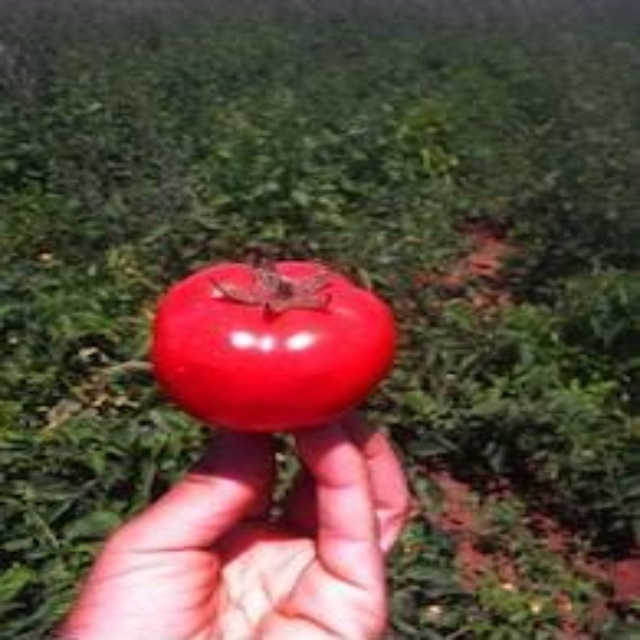tomato: (160, 263, 391, 425)
